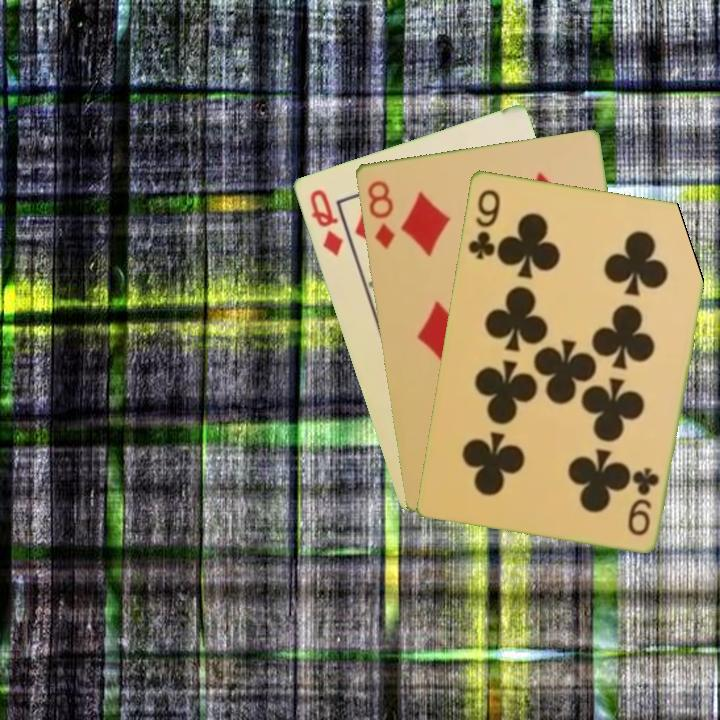8d: (363, 176, 397, 252)
9c: (464, 185, 503, 262), (624, 463, 662, 538)
Qd: (306, 185, 346, 259)
